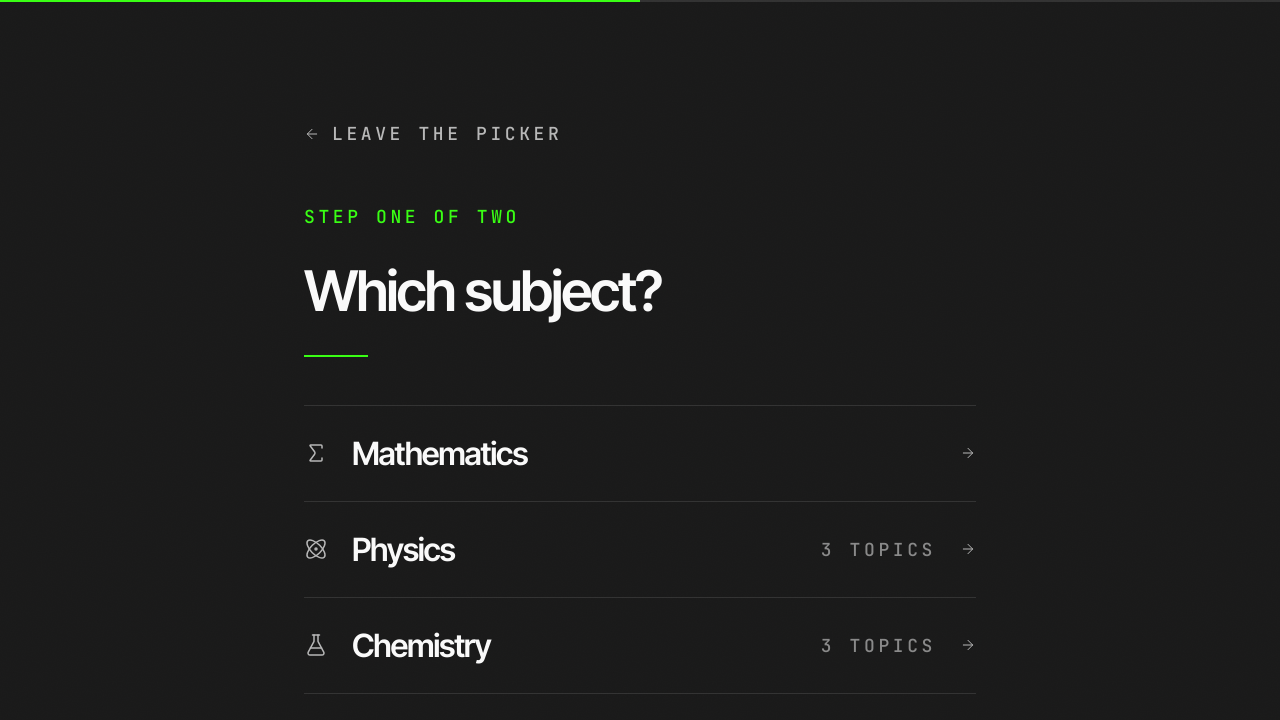
Scenario: Mathematics picker entry › retains existing Physics demo behavior
Click the button "Physics 3 topics" at (403,549), box [304,502,976,598]
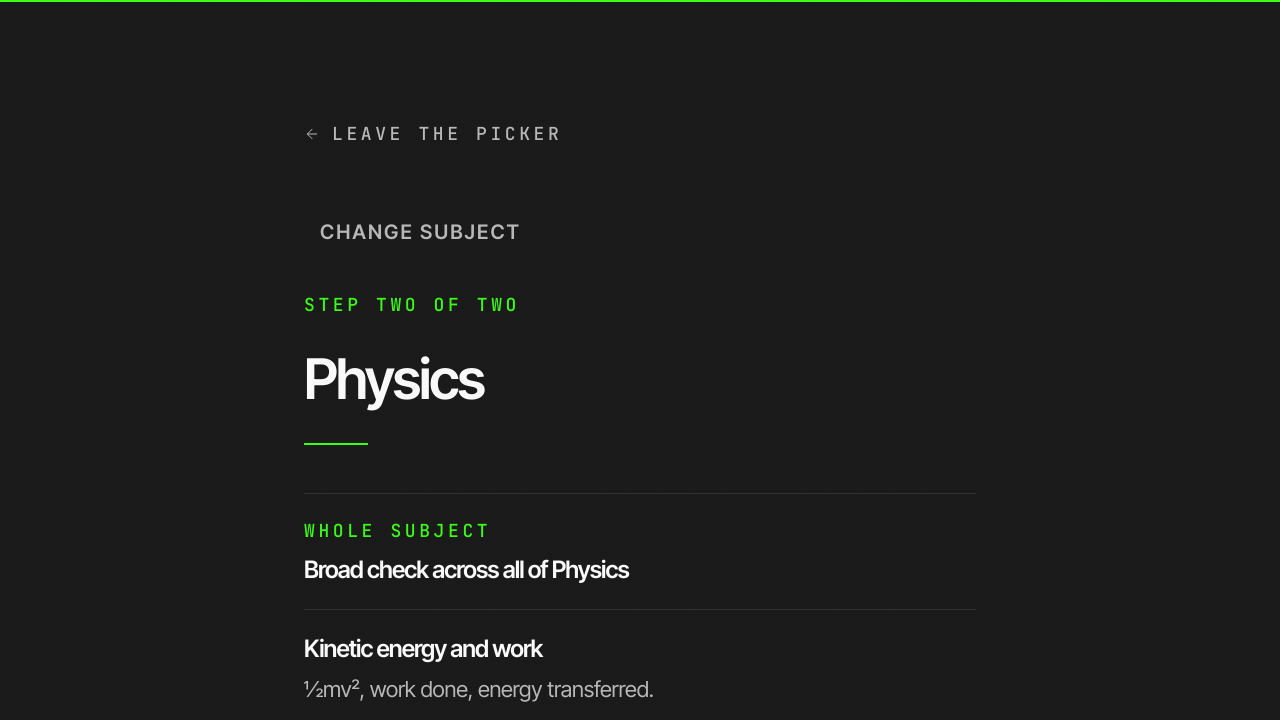
Result: the text "Whole subject" is shown at [304,519,491,542]
